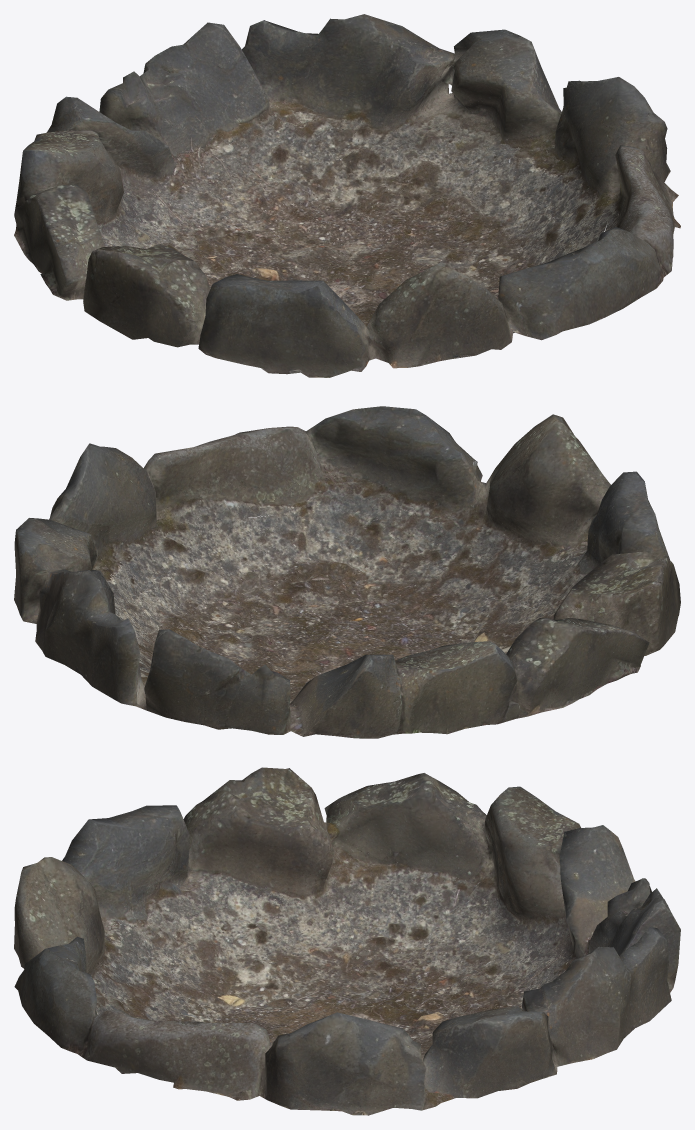
The model's file is stone_fire_pit.glb.
3 views of the same model, one above another, from view 1: azimuth 30°, elevation 25°; view 2: azimuth 150°, elevation 25°; view 3: azimuth 270°, elevation 25° (orthographic).
Parts seen in each view (by area): view 1: stone_fire_pit; view 2: stone_fire_pit; view 3: stone_fire_pit.
Boxes of the visible parts, x1,y1,x2,y2 form: stone_fire_pit: (14, 14, 680, 377); stone_fire_pit: (14, 406, 680, 738); stone_fire_pit: (14, 767, 680, 1115).
Size of the model in its own units: 1.45 by 0.3883 by 1.43.
1 material, 1 textured.
